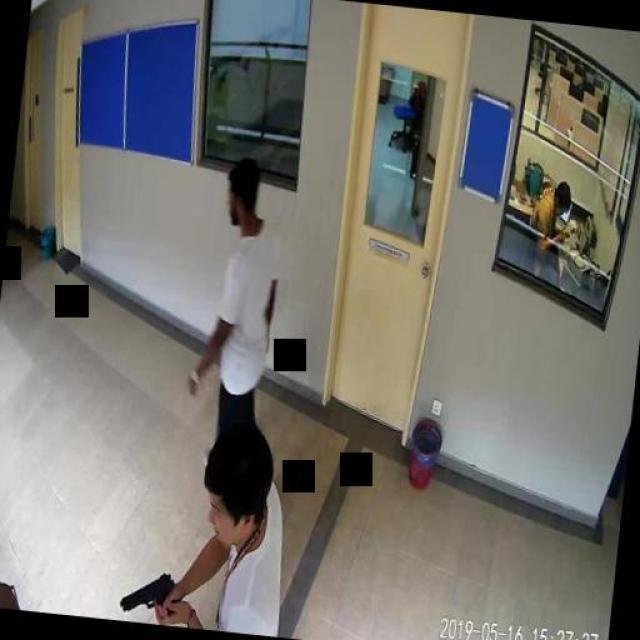gun: (119, 565, 179, 617)
